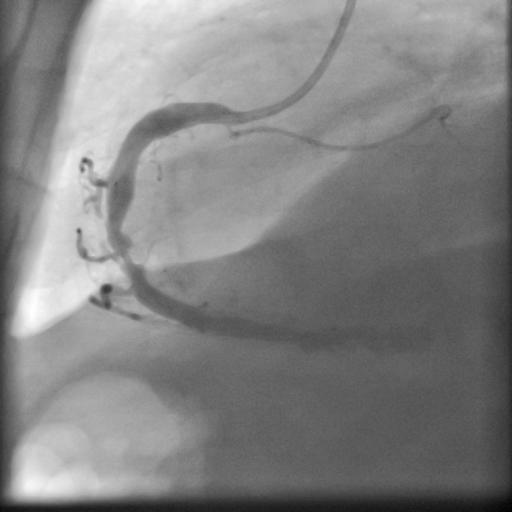Stenosis: (109, 229, 142, 273)
